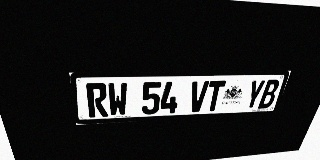4: (160, 81, 180, 114)
5: (142, 82, 161, 115)
B: (258, 79, 281, 109)
R: (86, 83, 108, 118)
T: (204, 81, 226, 111)
V: (188, 81, 209, 112)
W: (107, 82, 127, 117)
Y: (243, 80, 266, 109)
